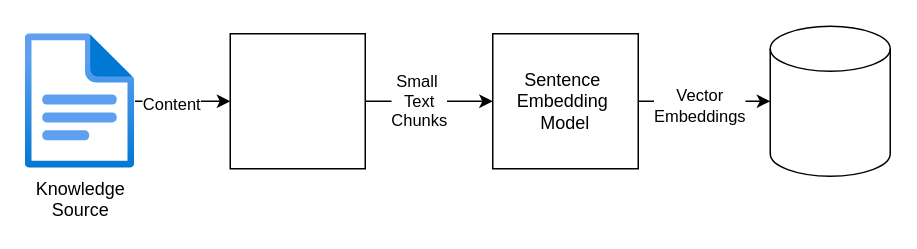
Some shapes in this 917 by 249 pixel diagram are drawn without their labels. The shapes that lost their labels are listed below. From the top down, each one's centre as x and y in pixels, then its label:
At point 297,100: "Document Parser".
At point 829,100: "Vector DB".
